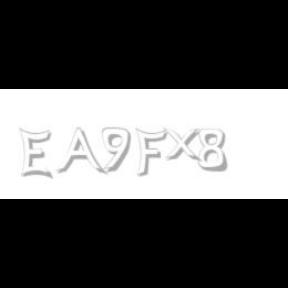8: (198, 128, 228, 172)
9: (102, 128, 130, 172)
A: (56, 128, 104, 176)
E: (18, 128, 52, 180)
F: (135, 128, 167, 178)
x: (163, 128, 205, 162)
